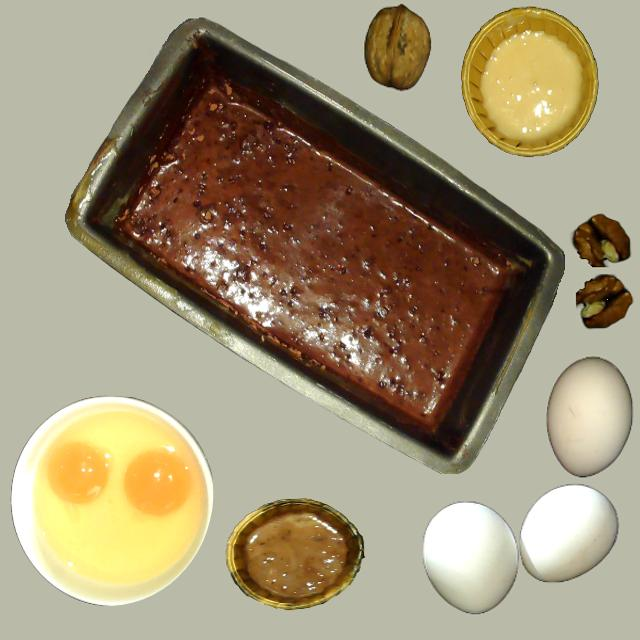Egg: (123, 448, 190, 516), (47, 442, 111, 506)
Walnut: (364, 5, 430, 90)
